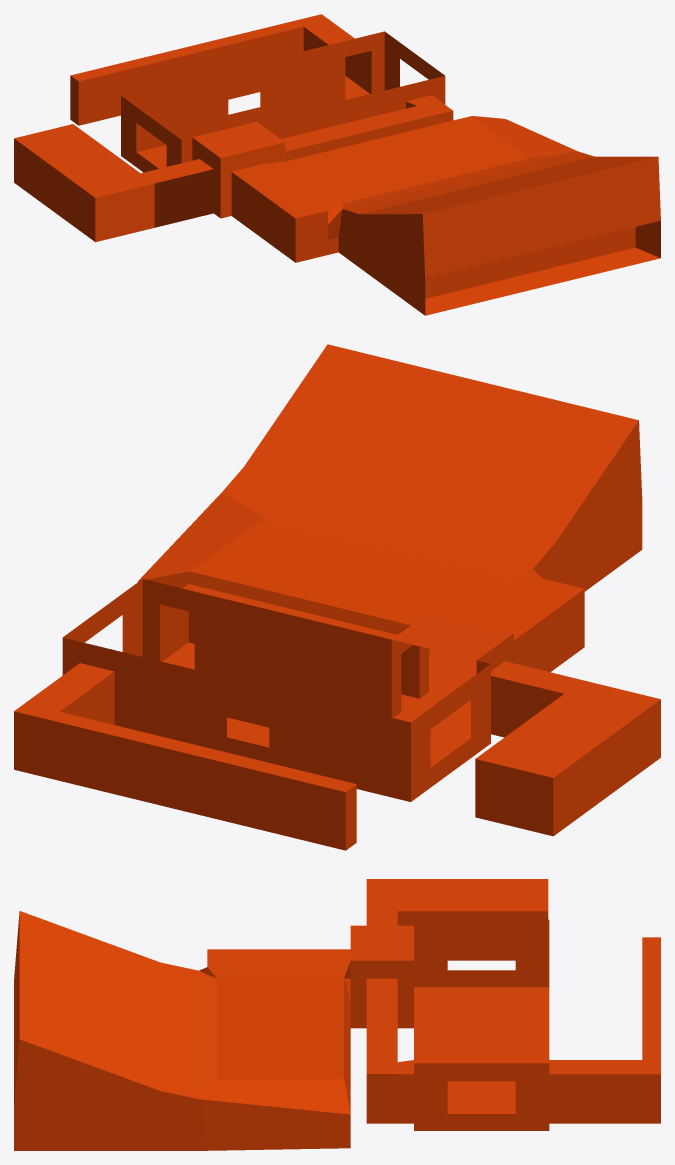
Rendered from map.glb.
The picture shows the model from 3 angles, top to bottom: view 1: azimuth 30°, elevation 25°; view 2: azimuth 150°, elevation 25°; view 3: azimuth 270°, elevation 25°; orthographic projection. The views are drawn at different scales.
Parts seen in each view (by area): view 1: Plane; view 2: Plane; view 3: Plane.
Part boxes in pixels (x1=…): Plane: x1=14, y1=14, x2=660, y2=315; Plane: x1=14, y1=344, x2=660, y2=850; Plane: x1=14, y1=879, x2=660, y2=1150.
Size of the model in its own units: 33.93 by 7.94 by 41.74.
